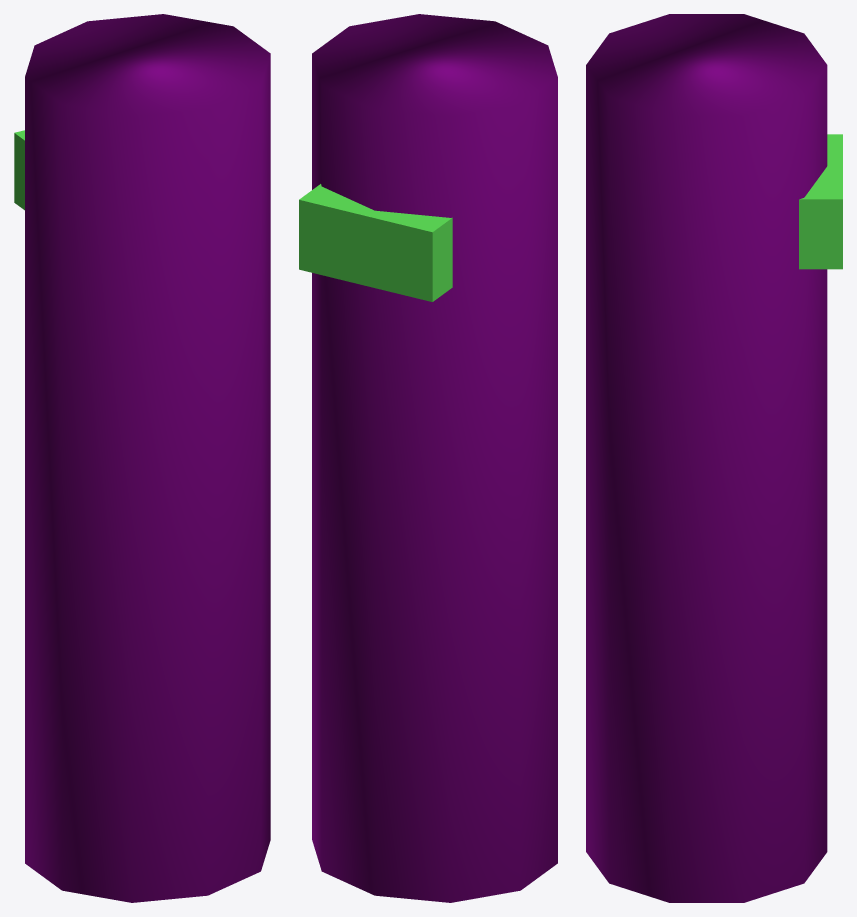
File: enemy.glb
3 renders of one model, left to right at view 1: azimuth 30°, elevation 25°; view 2: azimuth 150°, elevation 25°; view 3: azimuth 270°, elevation 25°, orthographic.
Visible parts, largest first — view 1: Cylinder, Cube; view 2: Cylinder, Cube; view 3: Cylinder, Cube.
Boxes of the visible parts, x1,y1,x2,y2 form: Cylinder: (25, 14, 270, 902); Cube: (14, 130, 24, 210); Cylinder: (312, 14, 557, 902); Cube: (299, 184, 452, 301); Cylinder: (586, 14, 827, 902); Cube: (799, 134, 842, 269).
Bounding box in the file's own units: 0.5 × 1.8 × 0.5321.
